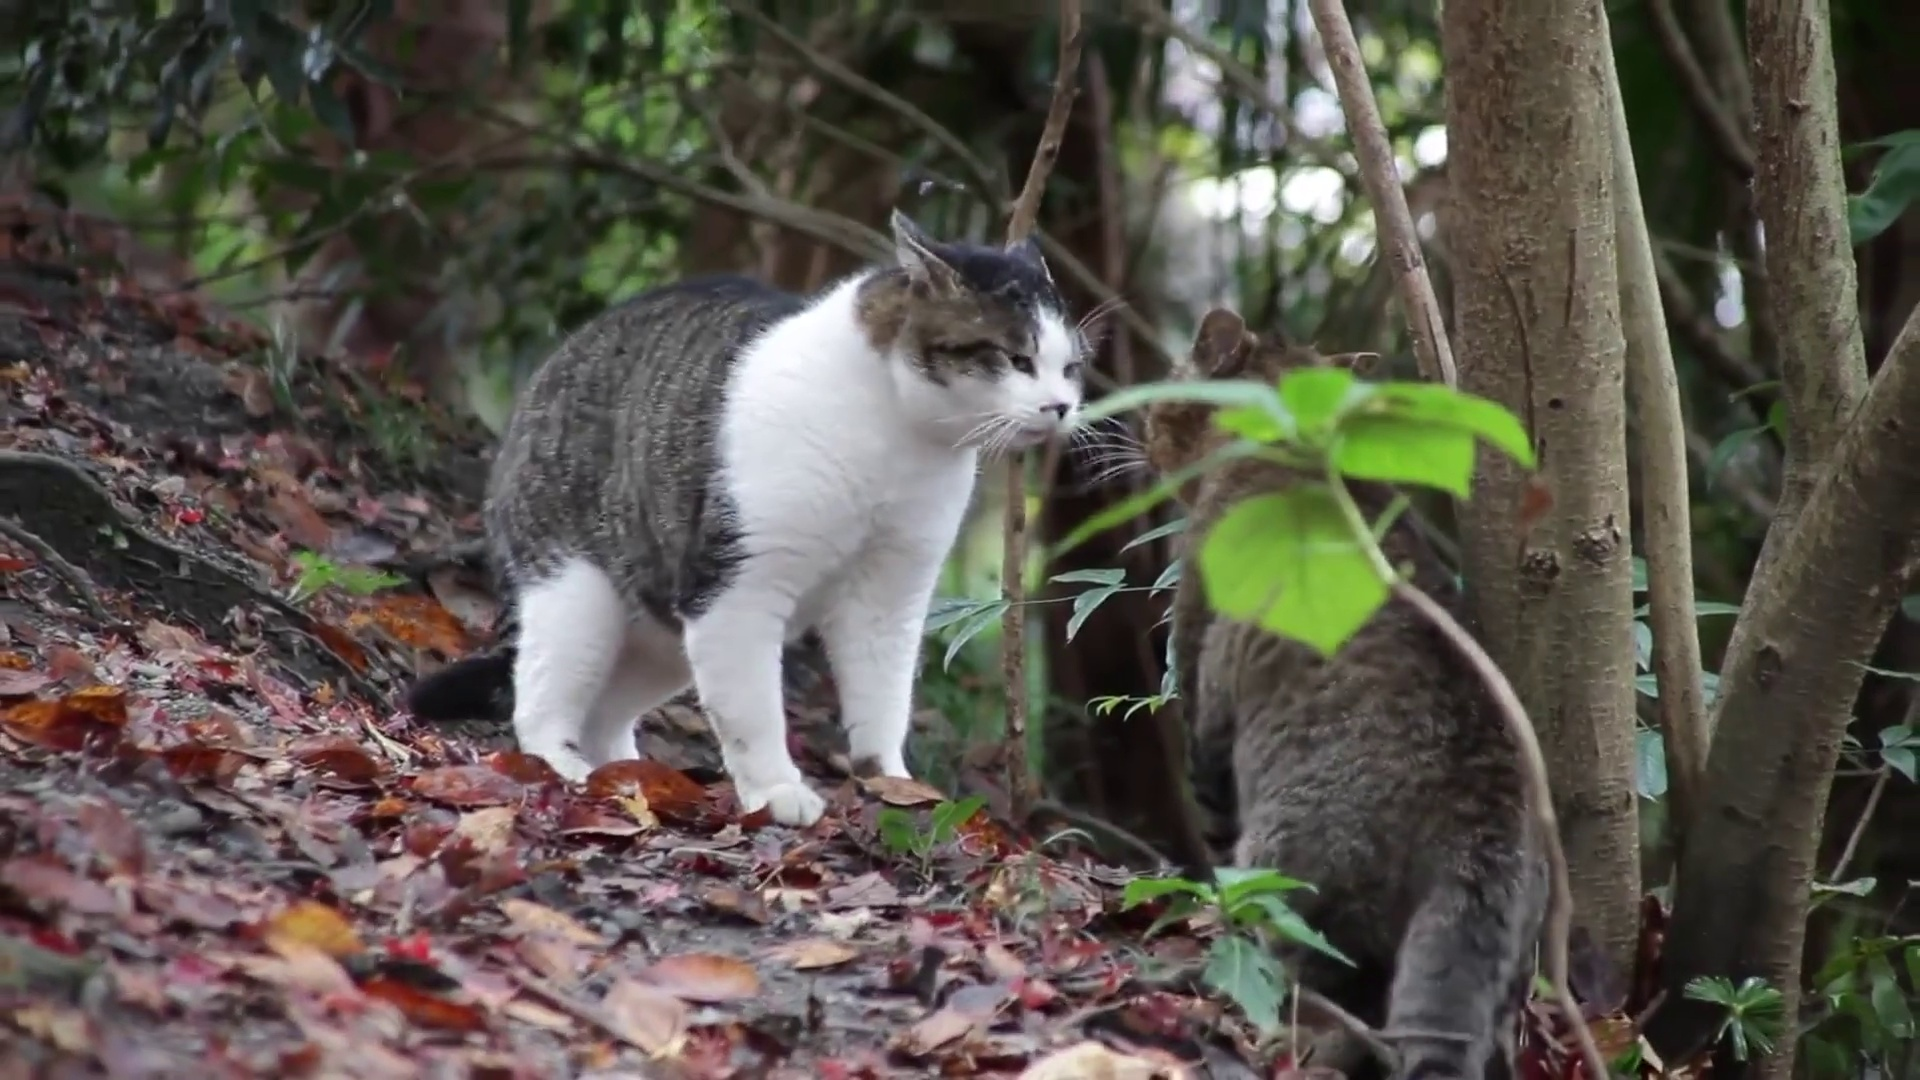black-white: (480, 207, 1085, 828)
pure black: (1149, 309, 1549, 1080)
